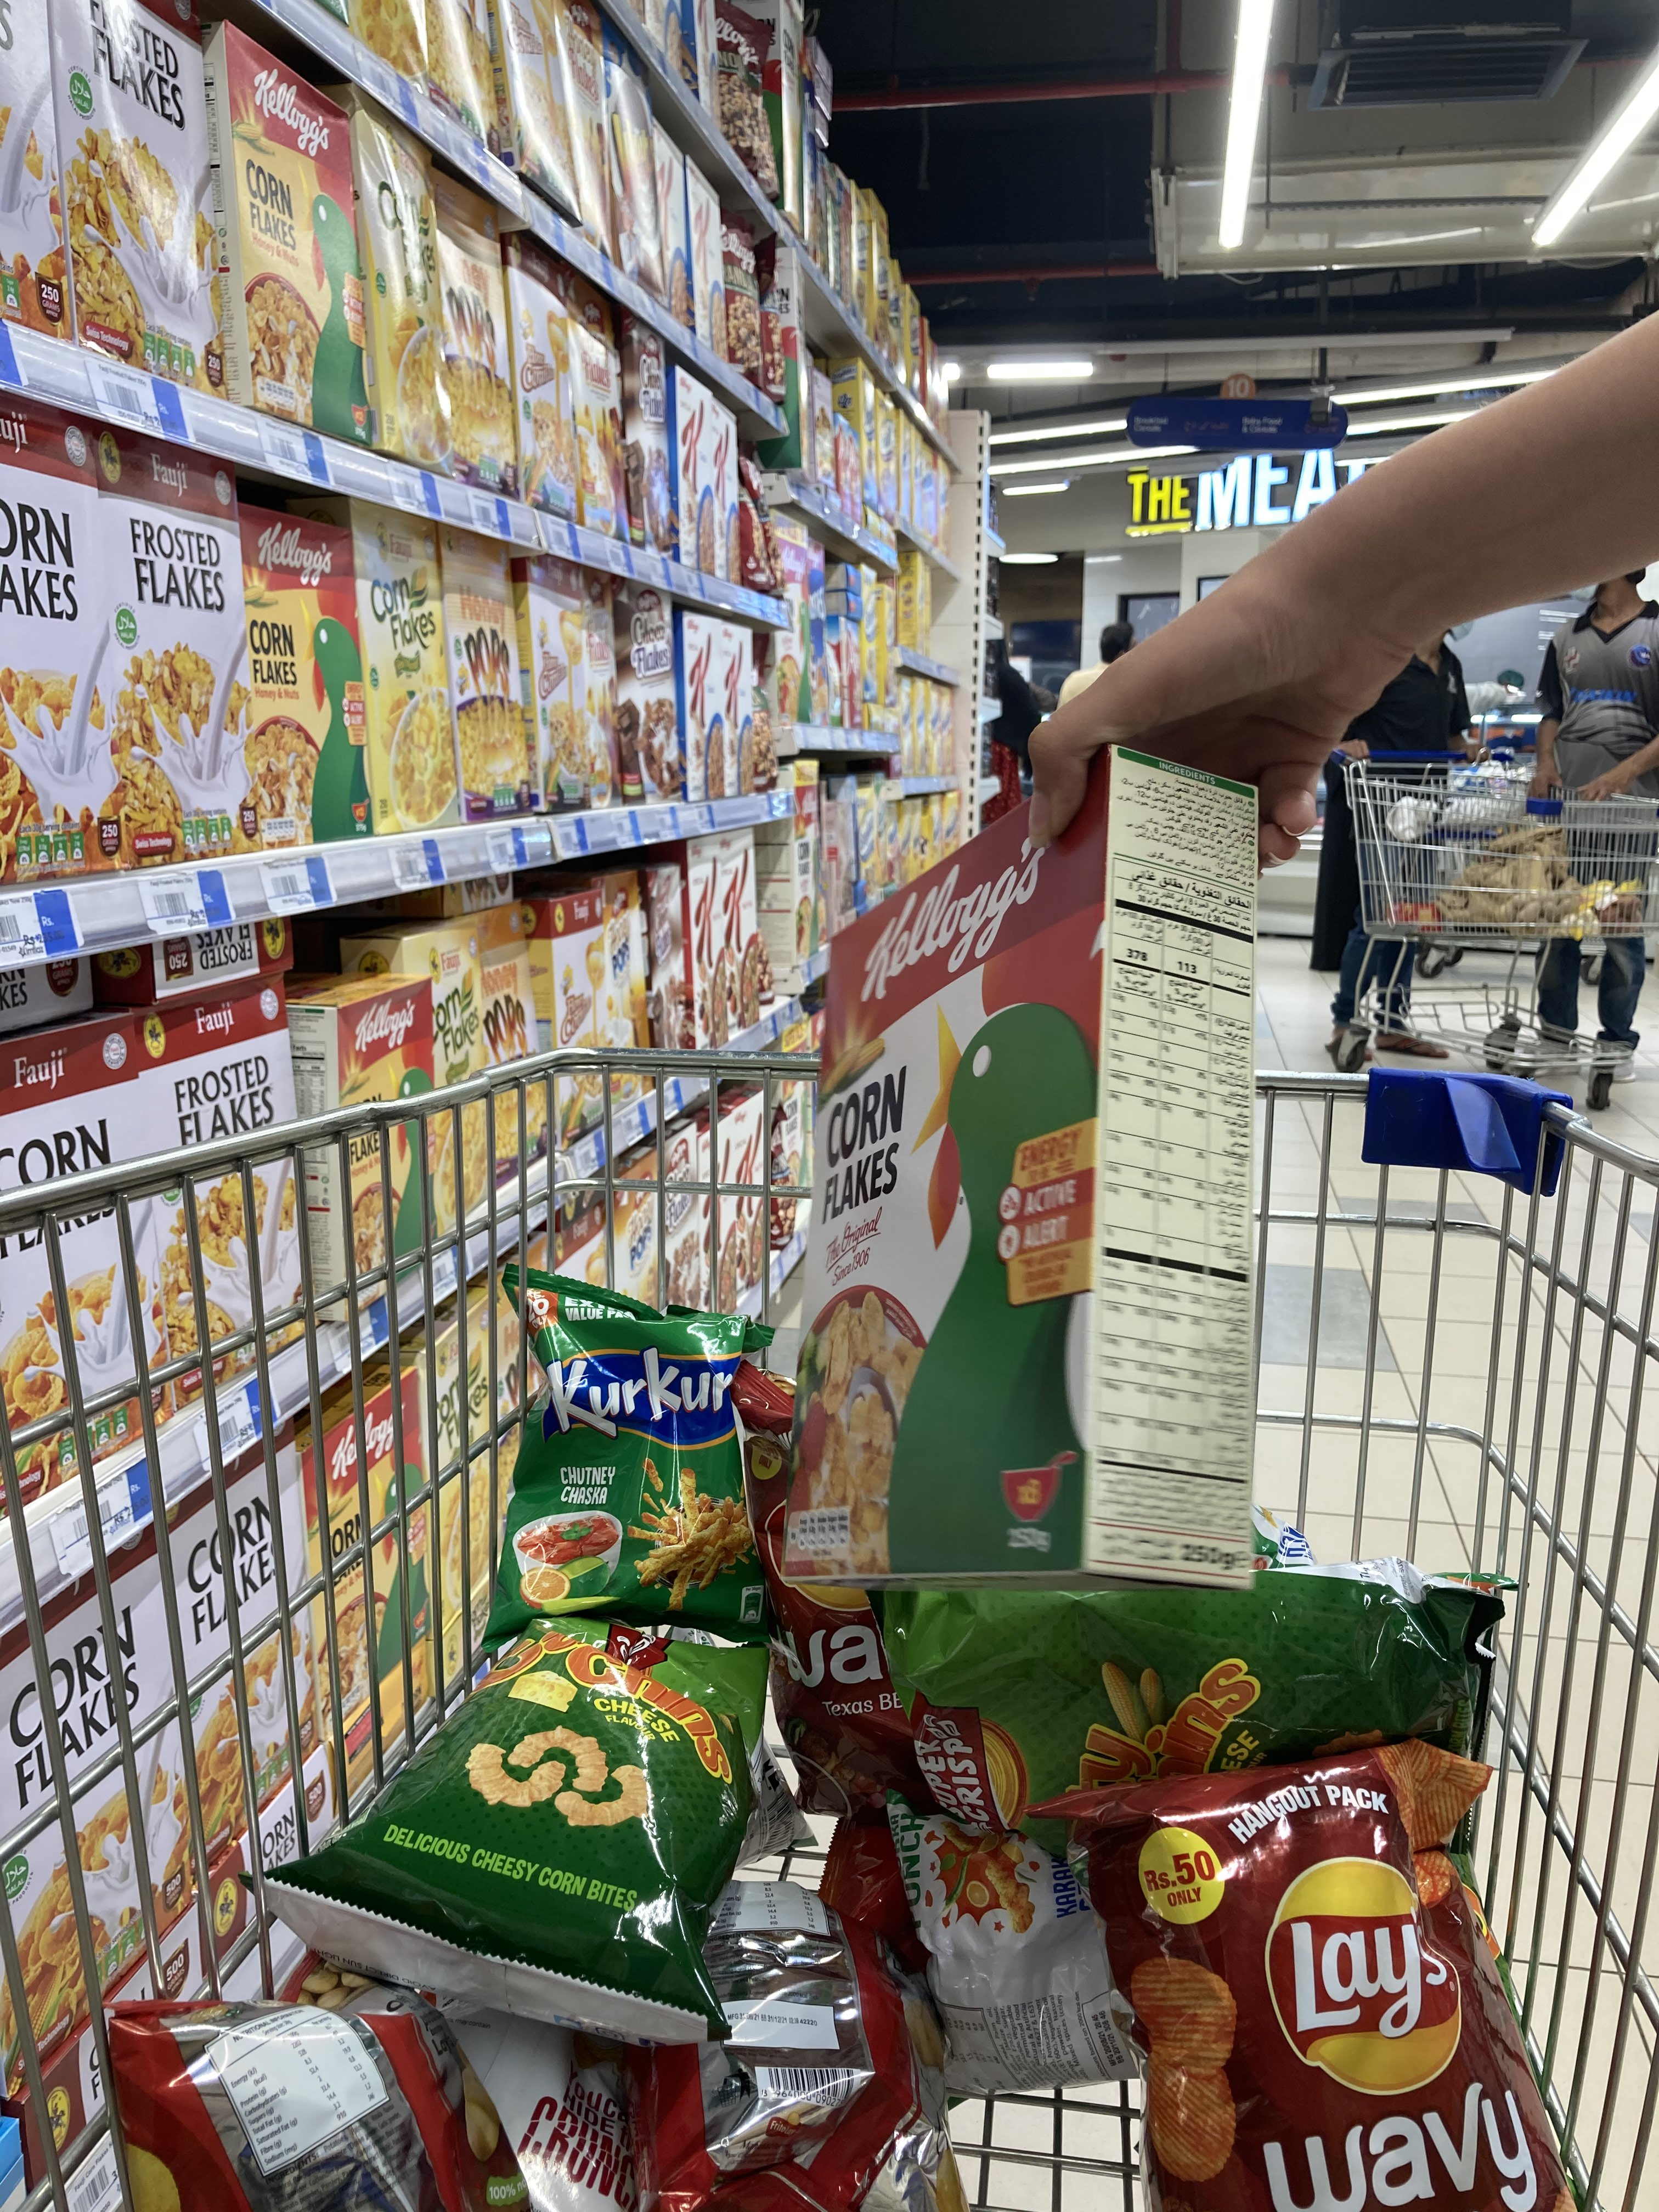Kellogg's Corn Flakes: (769, 756, 1284, 1599)
